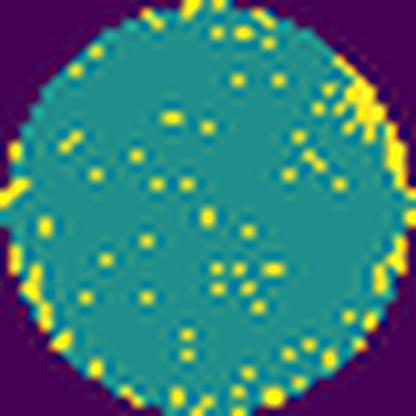Edge-Loc: (328, 53, 416, 201)
